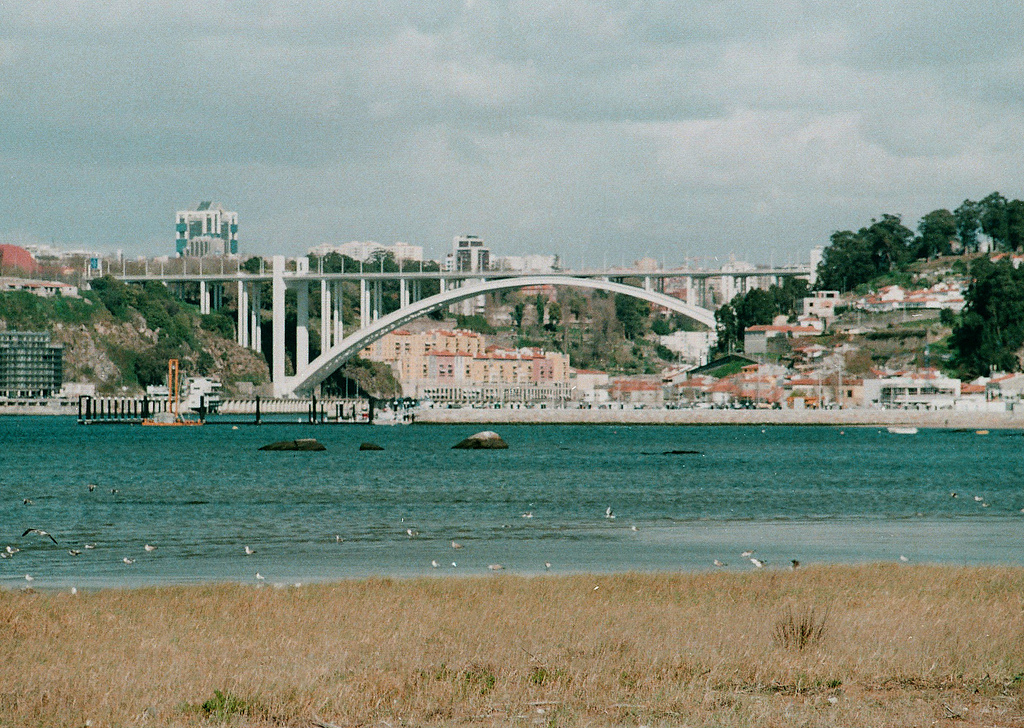arrabida: (109, 245, 829, 400)
